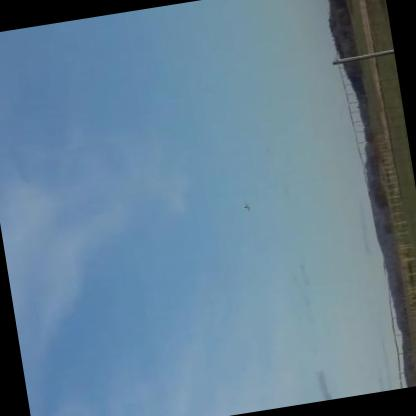plane: (238, 199, 253, 213)
